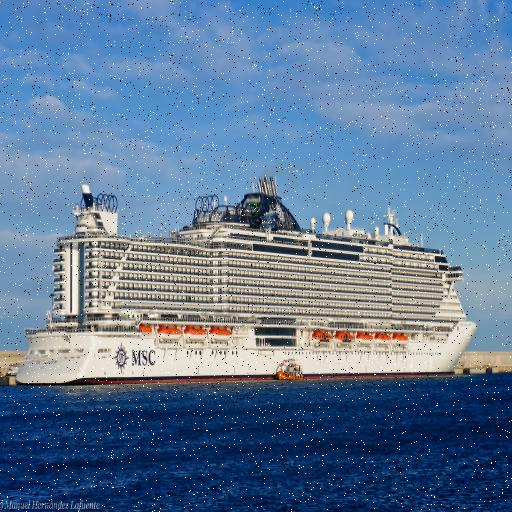cruises: (14, 157, 483, 388)
